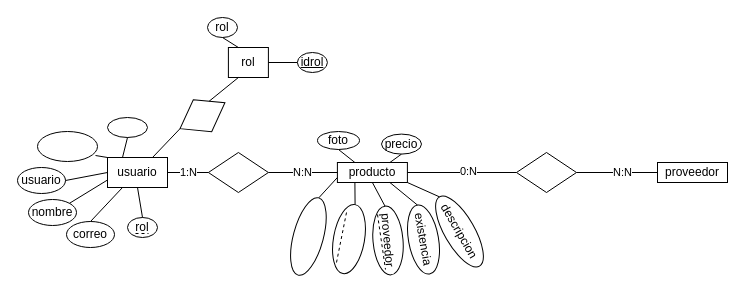
Some shapes in this 745 by 297 pixel diagram are drawn without their labels. Here are the shapes that lost their labels. From the top down, the centre of each, then its label:
At pixel 127 127: "clave".
At pixel 202 115: "Tiene".
At pixel 67 146: "idusuario".
At pixel 237 172: "compra".
At pixel 546 172: "entrada".
At pixel 307 236: "codproducto".
At pixel 348 238: "usuario_id".
